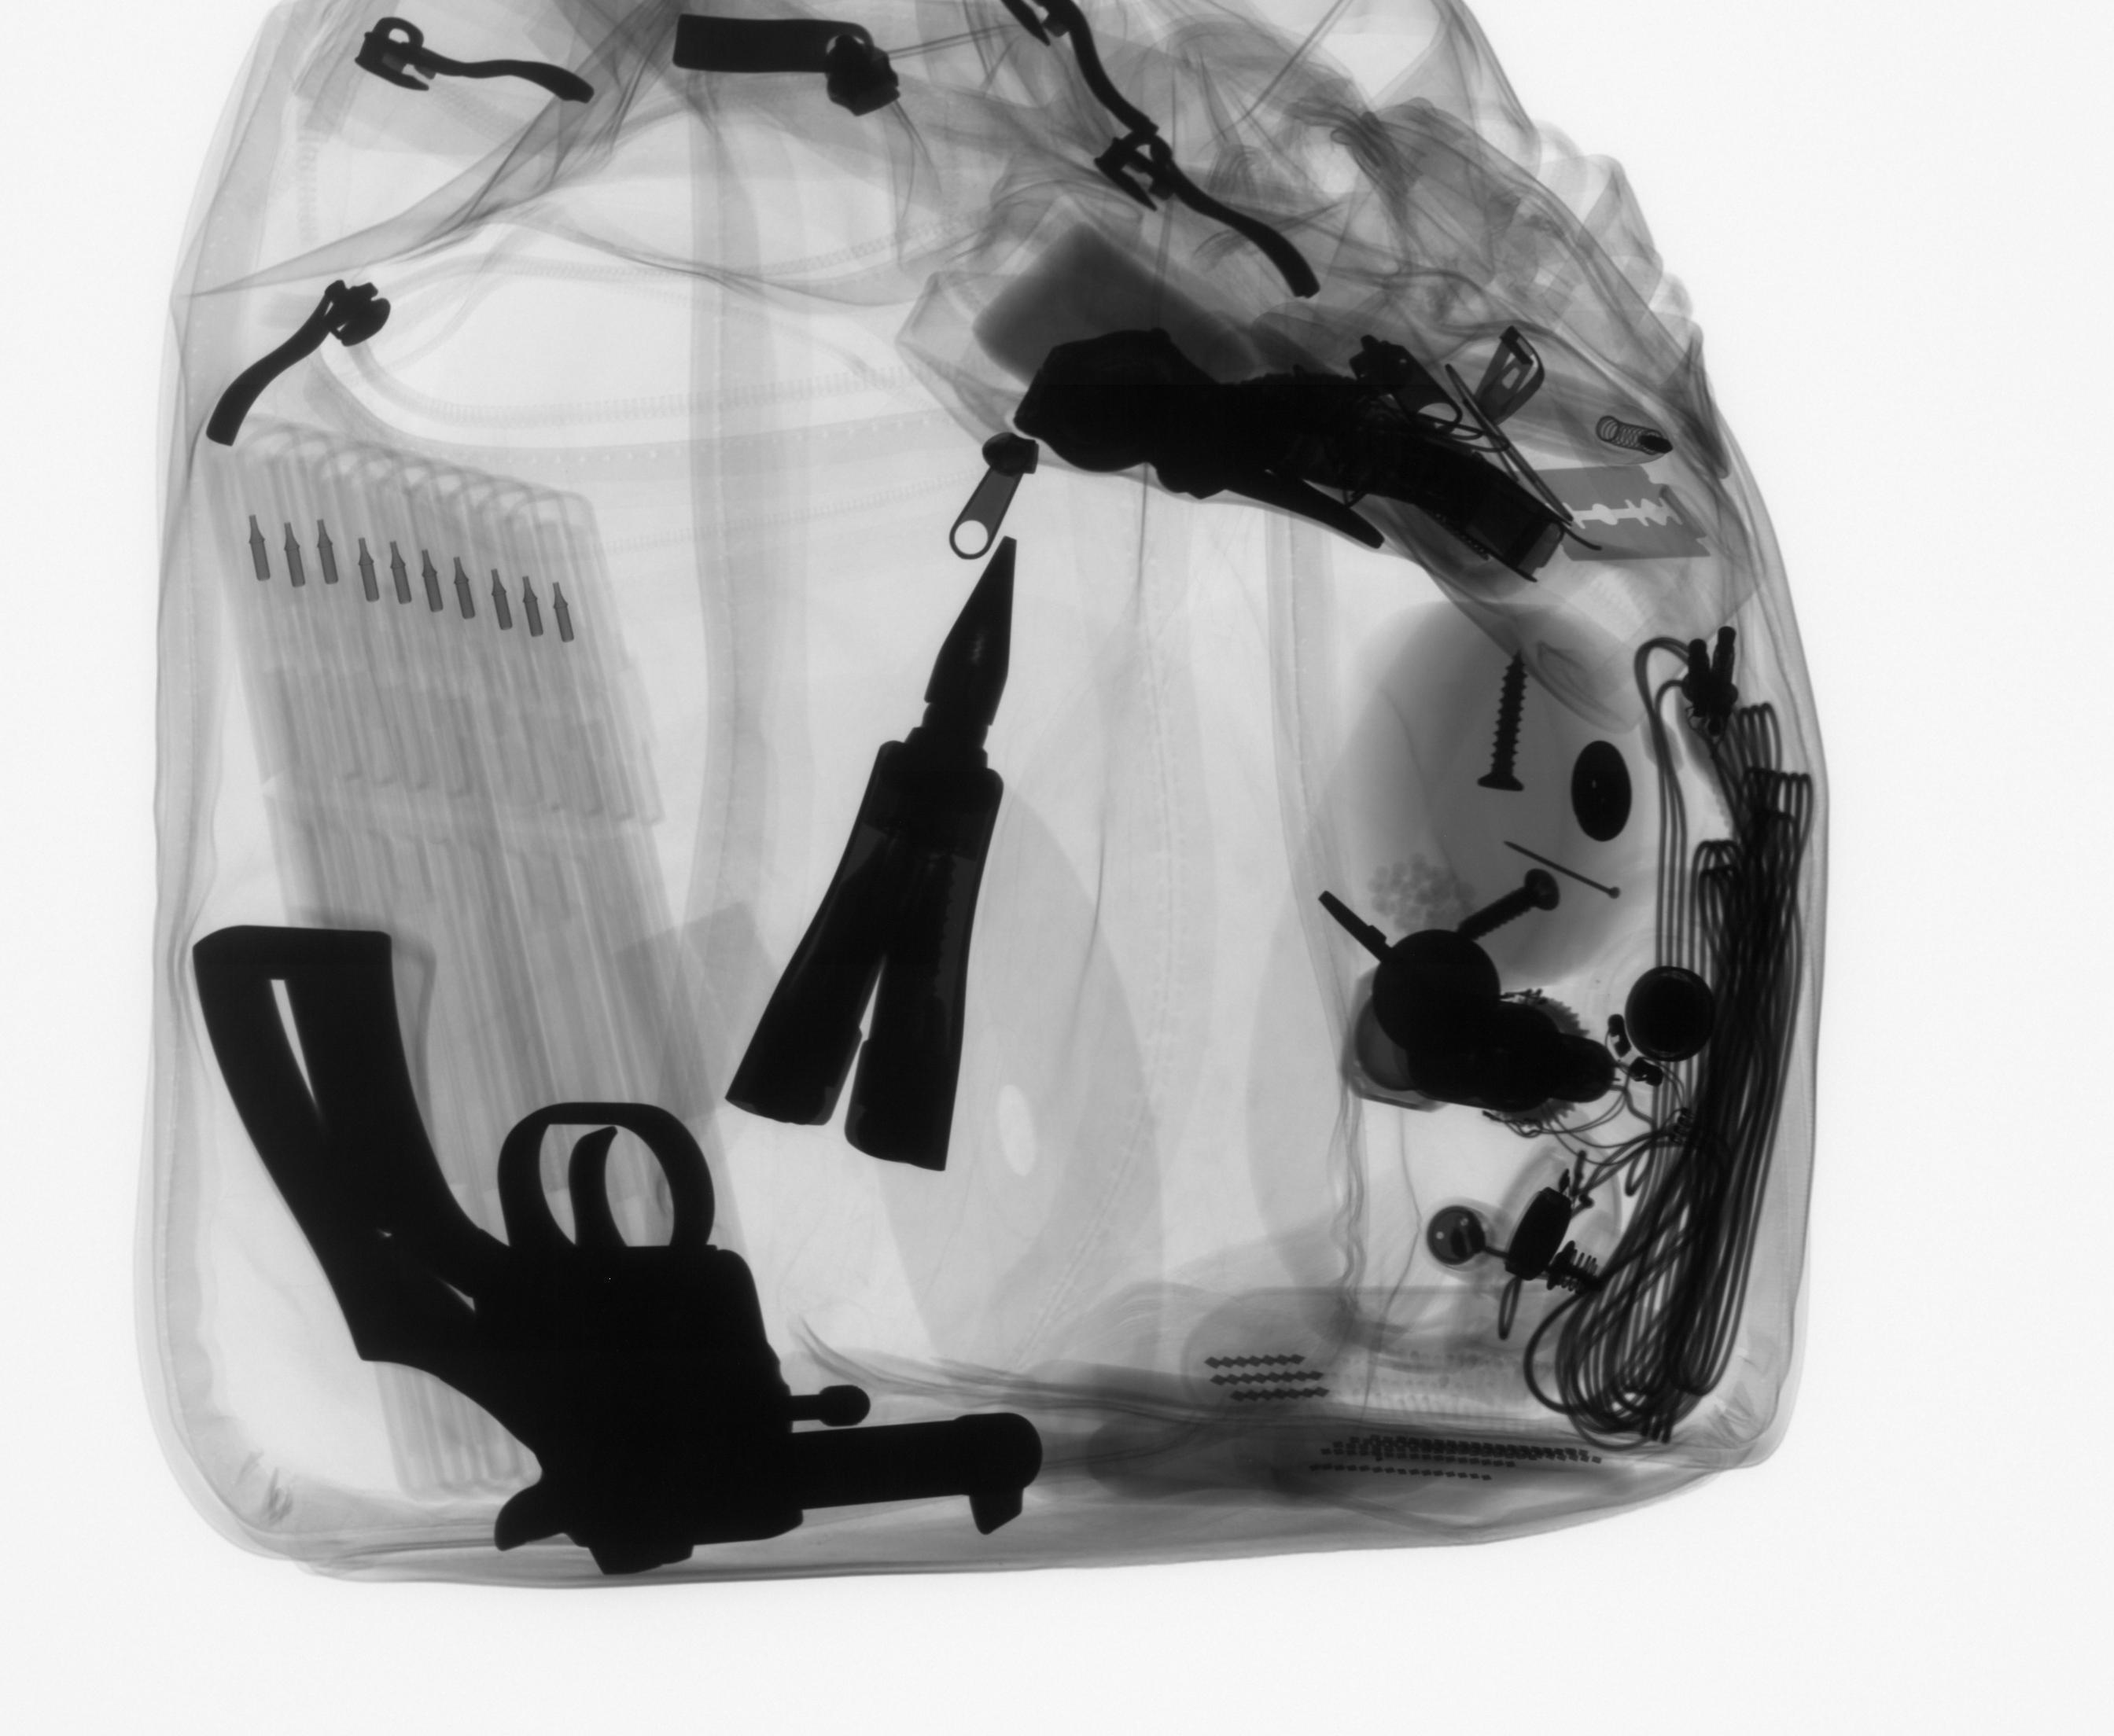Handgun: (180, 916, 1058, 1579)
RazorBlade: (1517, 459, 1716, 571)
